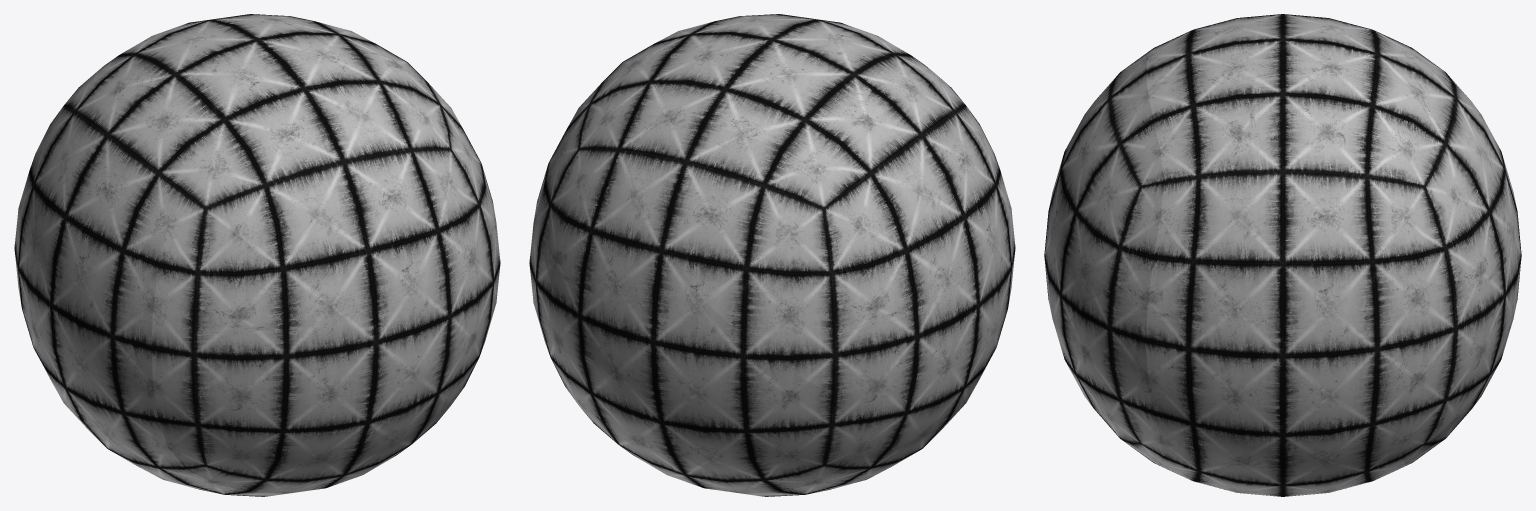
Rendered from Ball break.fbx.
3 renders of one model, left to right at view 1: azimuth 30°, elevation 25°; view 2: azimuth 150°, elevation 25°; view 3: azimuth 270°, elevation 25°, orthographic.
Visible parts, largest first — view 1: Ball.010, Ball.003, Ball.007, Ball.006, Ball.009, Ball.001, Ball.004, Ball.020, Ball.002, Ball.025, Ball.026, Ball.005 (+3 smaller); view 2: Ball.010, Ball.003, Ball.015, Ball.013, Ball.011, Ball.012, Ball.004, Ball.020, Ball.014, Ball.024, Ball.017, Ball.005 (+3 smaller); view 3: Ball.023, Ball.005, Ball.004, Ball.006, Ball.013, Ball.024, Ball.025, Ball.003, Ball.002, Ball.014, Ball.022, Ball.001 (+3 smaller).
Boxes of the visible parts, x1=… form: Ball.010: x1=14, y1=108, x2=183, y2=404; Ball.003: x1=65, y1=19, x2=325, y2=194; Ball.007: x1=156, y1=301, x2=376, y2=492; Ball.006: x1=367, y1=115, x2=490, y2=379; Ball.009: x1=151, y1=195, x2=323, y2=403; Ball.001: x1=184, y1=123, x2=366, y2=301; Ball.004: x1=211, y1=14, x2=405, y2=122; Ball.020: x1=31, y1=339, x2=264, y2=495; Ball.002: x1=326, y1=113, x2=405, y2=244; Ball.025: x1=424, y1=204, x2=500, y2=403; Ball.026: x1=327, y1=380, x2=452, y2=487; Ball.005: x1=341, y1=28, x2=489, y2=199; Ball.010: x1=846, y1=108, x2=1015, y2=404; Ball.003: x1=704, y1=19, x2=964, y2=194; Ball.015: x1=653, y1=301, x2=873, y2=492; Ball.013: x1=539, y1=115, x2=662, y2=379; Ball.011: x1=706, y1=195, x2=878, y2=403; Ball.012: x1=663, y1=123, x2=845, y2=301; Ball.004: x1=624, y1=14, x2=818, y2=122; Ball.020: x1=765, y1=339, x2=998, y2=495; Ball.014: x1=624, y1=113, x2=703, y2=244; Ball.024: x1=529, y1=204, x2=605, y2=403; Ball.017: x1=577, y1=380, x2=702, y2=487; Ball.005: x1=540, y1=28, x2=688, y2=199; Ball.023: x1=1146, y1=263, x2=1419, y2=484; Ball.005: x1=1151, y1=120, x2=1414, y2=277; Ball.004: x1=1146, y1=39, x2=1419, y2=129; Ball.006: x1=1044, y1=130, x2=1164, y2=338; Ball.013: x1=1401, y1=130, x2=1521, y2=338; Ball.024: x1=1402, y1=277, x2=1504, y2=455; Ball.025: x1=1061, y1=277, x2=1163, y2=455; Ball.003: x1=1146, y1=14, x2=1419, y2=72; Ball.002: x1=1064, y1=72, x2=1155, y2=163; Ball.014: x1=1410, y1=72, x2=1501, y2=163; Ball.022: x1=1154, y1=456, x2=1411, y2=496; Ball.001: x1=1056, y1=48, x2=1153, y2=179.
Bounding box in the file's own units: 70 × 70 × 70.
